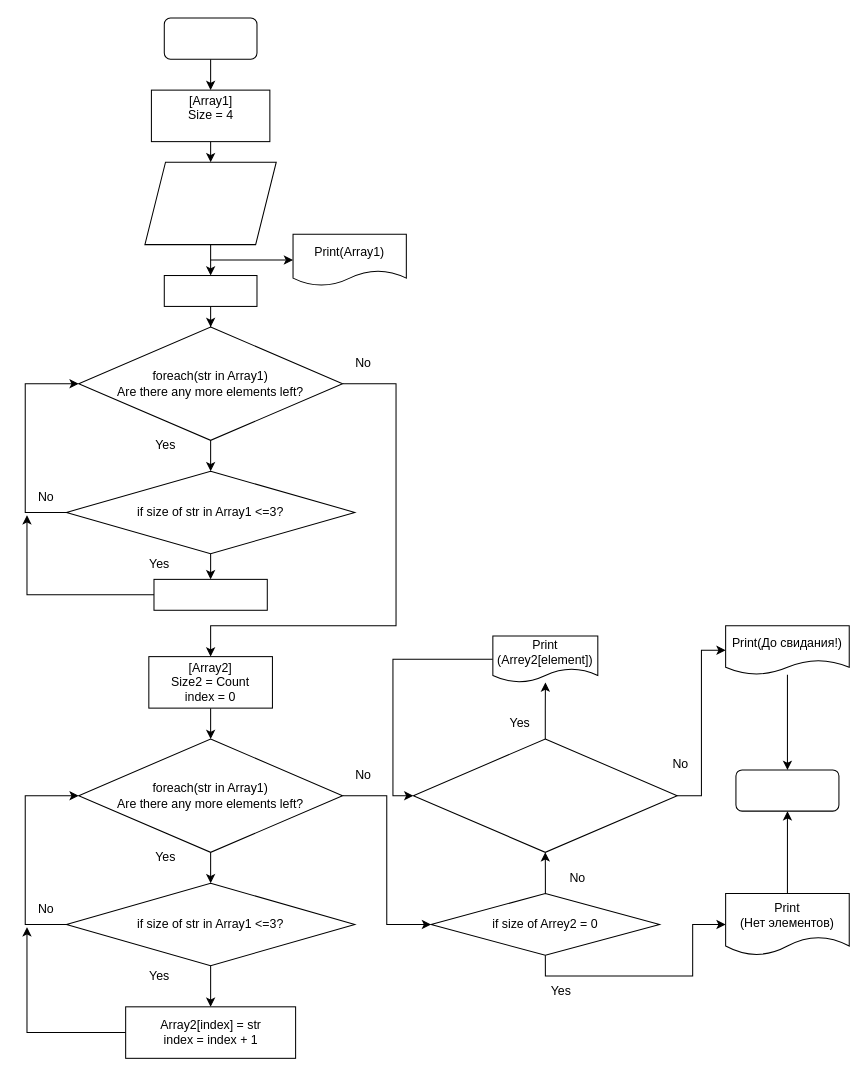
The diagram is 867 pixels wide and 1076 high, and some of its shapes have lost their labels. The shapes that lost their labels are listed below. From the top down, each one's centre as x and y in pixels, then its label:
At pixel 210 38: "Start".
At pixel 210 203: "Array[1] = Array[2] = Array[3] = Array[4] =".
At pixel 210 290: "Count = 0".
At pixel 210 594: "Count = Count + 1".
At pixel 544 795: "foreach(str in Array2) Are there any more elements left?".
At pixel 787 790: "Finish".
